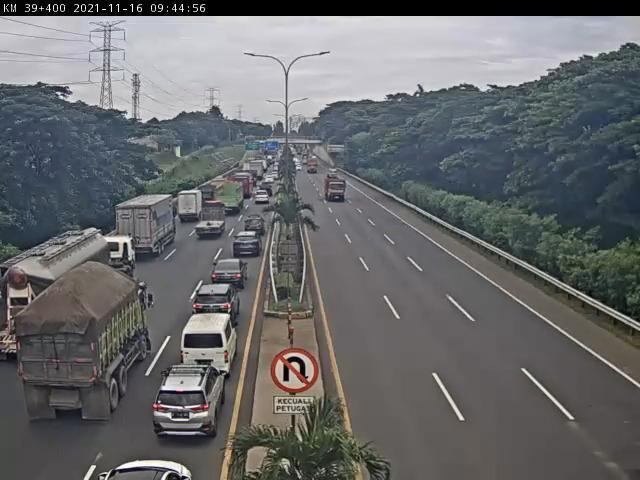car: (153, 367, 225, 439), (182, 315, 237, 376), (189, 284, 237, 332), (209, 260, 246, 292), (230, 233, 262, 262), (242, 219, 269, 243), (251, 189, 272, 210)
truck: (19, 269, 152, 421), (3, 230, 136, 361), (108, 199, 175, 265), (196, 201, 231, 243), (212, 182, 248, 221), (176, 186, 207, 222)
